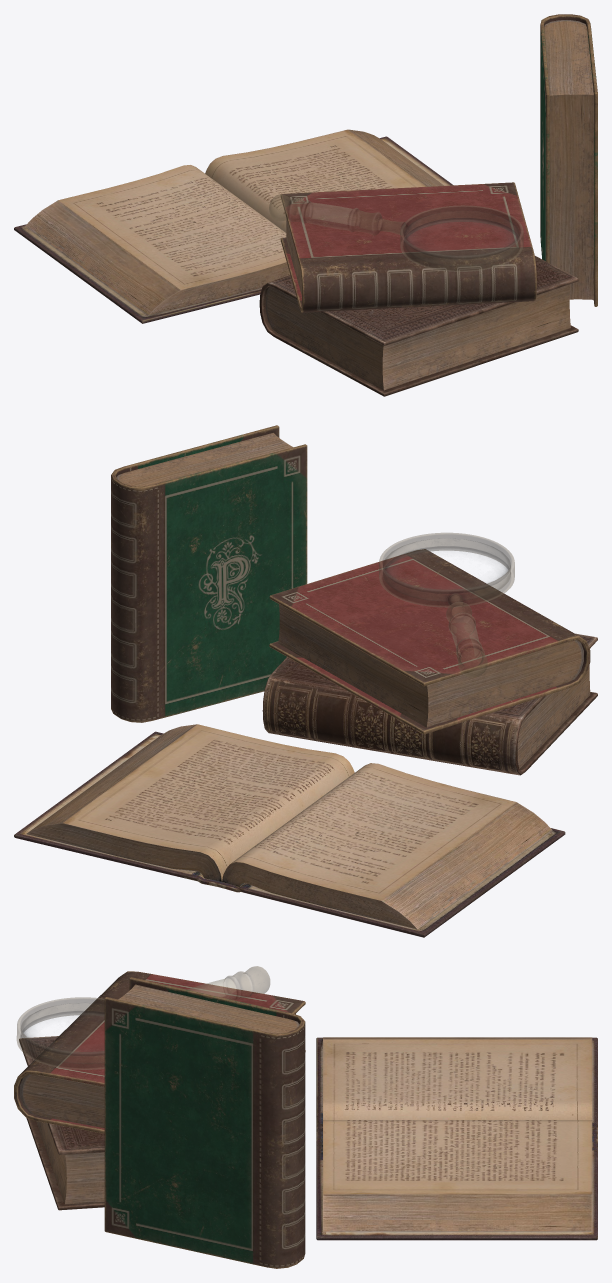
File: bookV3.glb
3 renders of one model, top to bottom at view 1: azimuth 30°, elevation 25°; view 2: azimuth 150°, elevation 25°; view 3: azimuth 270°, elevation 25°, orthographic. The views are drawn at different scales.
Visible parts, largest first — view 1: Open_book, Book_3, Book_1, Book_2, Magnifier; view 2: Open_book, Book_2, Book_3, Book_1, Magnifier; view 3: Open_book, Book_2, Book_3, Book_1, Magnifier.
Part boxes in pixels (bbox=[...]): Open_book: bbox=[14, 129, 453, 323]; Book_3: bbox=[280, 182, 536, 312]; Book_1: bbox=[259, 256, 578, 396]; Book_2: bbox=[540, 14, 597, 306]; Magnifier: bbox=[269, 194, 523, 271]; Open_book: bbox=[14, 724, 565, 937]; Book_2: bbox=[111, 425, 307, 722]; Book_3: bbox=[269, 549, 590, 734]; Book_1: bbox=[262, 633, 597, 775]; Magnifier: bbox=[379, 533, 514, 677]; Open_book: bbox=[316, 1037, 597, 1240]; Book_2: bbox=[104, 977, 305, 1268]; Book_3: bbox=[14, 971, 305, 1133]; Book_1: bbox=[19, 1036, 104, 1210]; Magnifier: bbox=[17, 966, 269, 1069].
Bounding box in the file's own units: 0.4027 × 0.1928 × 0.4338.
5 materials, 5 textured.
